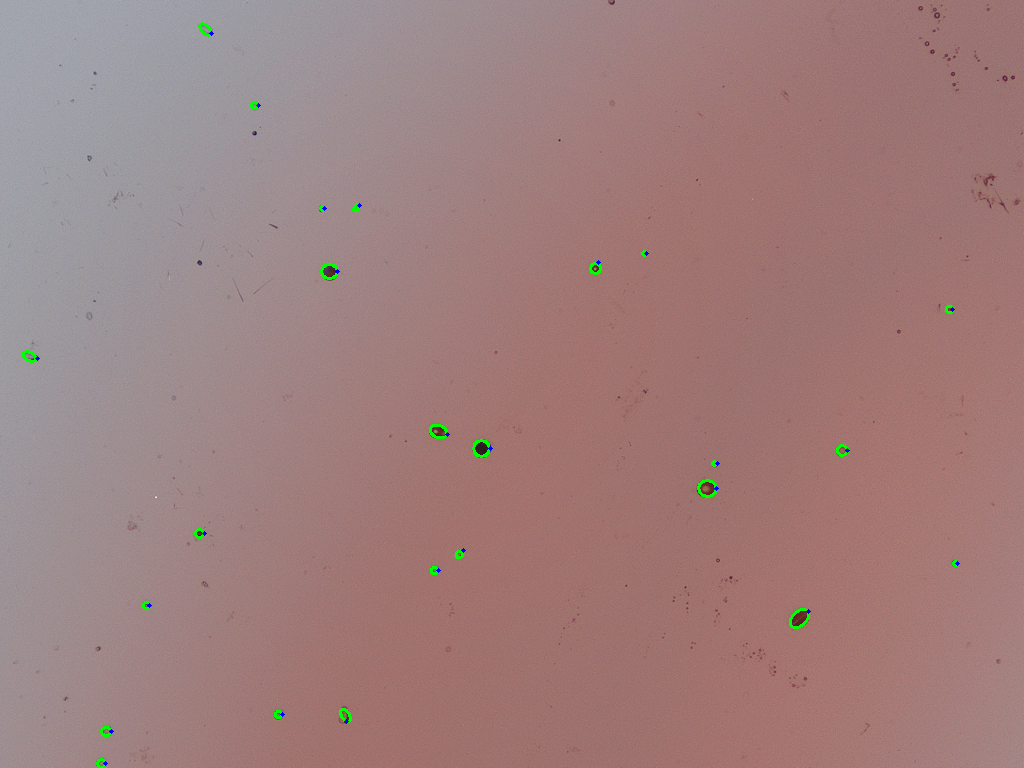circle: (473, 439, 490, 457), (321, 263, 337, 279), (836, 445, 847, 456), (101, 726, 111, 736), (96, 759, 105, 768), (274, 711, 282, 718), (431, 566, 438, 573), (251, 102, 258, 109), (143, 602, 149, 608), (946, 306, 952, 312), (641, 250, 646, 256), (319, 205, 324, 211), (712, 461, 717, 466), (952, 560, 957, 565)
ellipse: (697, 480, 716, 497), (429, 425, 448, 438), (198, 23, 212, 34), (340, 706, 349, 723), (194, 530, 204, 536)
